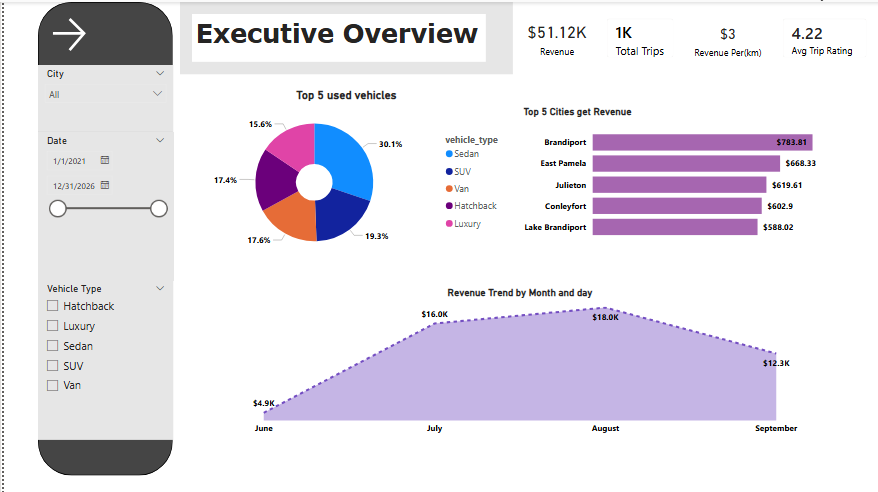

This screenshot's page, from the dashboard's own definition file:
{"tool":"powerbi","page":{"name":"Executive Overview","canvas":[1280,720],"ordinal":0},"visuals":[{"type":"shape","box":[257.1,0,487.1,105.7],"z":0},{"type":"shape","box":[50,0,197.1,692.9],"z":1000},{"type":"card","fields":{"Values":["-Measures.Revenue"]},"box":[755.7,12.9,108.6,78.6],"z":2000},{"type":"cardVisual","fields":{"Data":["-Measures.Total Trips"]},"box":[864.3,7.1,132.9,91.4],"z":3000},{"type":"cardVisual","fields":{"Data":["-Measures.Avg Trip Rating"]},"box":[1122.9,7.1,157.1,91.4],"z":4000},{"type":"areaChart","title":"Revenue Trend by Month and day","fields":{"Category":["fact_trips.trip_start_time.Variation.Date Hierarchy.Month","fact_trips.trip_start_time.Variation.Date Hierarchy.Day"],"Y":["-Measures.Revenue"]},"box":[275.7,417.1,960,224.3],"z":5000},{"type":"clusteredBarChart","title":"Top 5 Cities get Revenue","fields":{"Category":["dim_customers.city"],"Y":["-Measures.Revenue"]},"box":[755.7,152.9,480,207.1],"z":6000},{"type":"donutChart","title":"Top 5 used vehicles ","fields":{"Category":["dim_vehicles.vehicle_type"],"Y":["CountNonNull(fact_trips.trip_id)"]},"box":[257.1,125.7,487.1,257.1],"z":7000},{"type":"card","fields":{"Values":["-Measures.Revenue Per(km)"]},"box":[997.1,14.3,125.7,78.6],"z":8000},{"type":"slicer","fields":{"Values":["dim_vehicles.vehicle_type"]},"box":[49.8,406.8,197.6,234.1],"z":9000},{"type":"slicer","fields":{"Values":["dim_customers.city"]},"box":[49.8,92.2,197.6,98],"z":10000},{"type":"slicer","fields":{"Values":["dim_date.date_day"]},"box":[49.8,190.2,197.6,216.6],"z":11000},{"type":"textbox","box":[275.7,17.1,430,70],"z":13000},{"type":"actionButton","box":[64.3,17.1,100,60],"z":15000}]}

Visuals, with their boxes in screenshot pixels (x1, y1, x2, y2), scaled from the page's 1280x720 canvas onto the 878x492 screenshot:
shape: 176 0 510 72
shape: 34 0 169 473
card - -Measures.Revenue: 518 9 593 63
cardVisual - -Measures.Total Trips: 593 5 684 67
cardVisual - -Measures.Avg Trip Rating: 770 5 877 67
"Revenue Trend by Month and day" areaChart: 189 285 848 438
"Top 5 Cities get Revenue" clusteredBarChart: 518 104 848 246
"Top 5 used vehicles " donutChart: 176 86 510 262
card - -Measures.Revenue Per(km): 684 10 770 63
slicer - dim_vehicles.vehicle_type: 34 278 170 438
slicer - dim_customers.city: 34 63 170 130
slicer - dim_date.date_day: 34 130 170 278
textbox: 189 12 484 60
actionButton: 44 12 113 53
